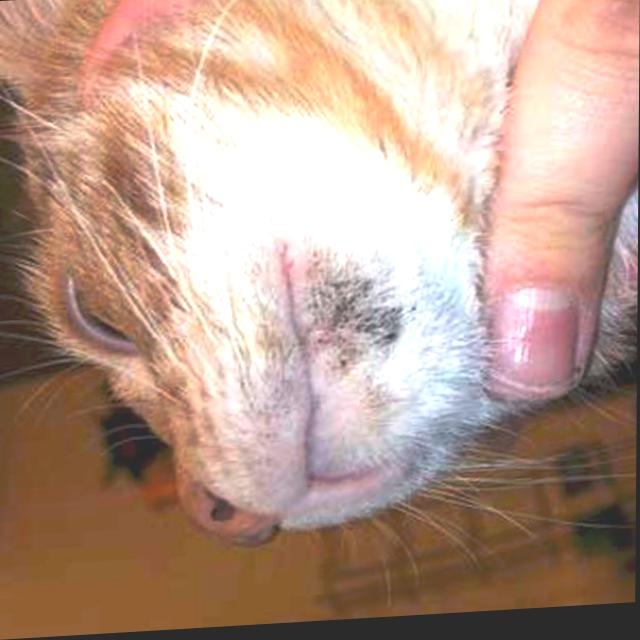acne: (309, 264, 406, 381)
